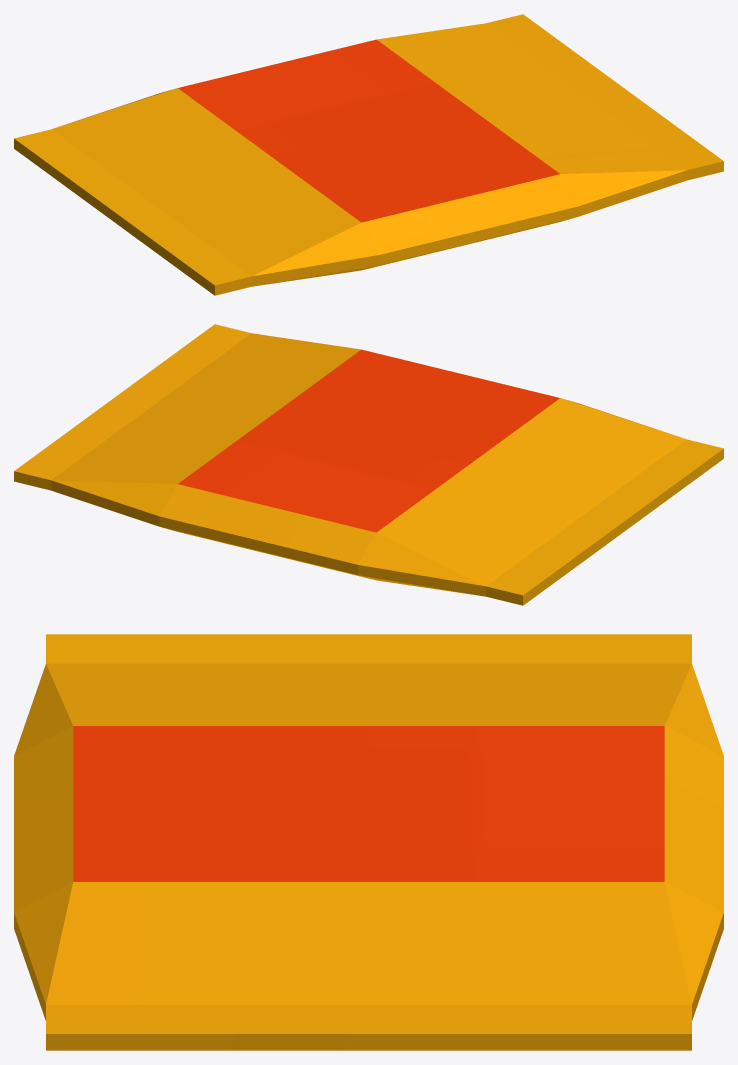
File: Cover01.fbx
3 renders of one model, top to bottom at view 1: azimuth 30°, elevation 25°; view 2: azimuth 150°, elevation 25°; view 3: azimuth 270°, elevation 25°, orthographic. The views are drawn at different scales.
Parts seen in each view (by area): view 1: Cover01; view 2: Cover01; view 3: Cover01.
Part boxes in pixels (left/top/right/bottom): Cover01: left=14, top=14, right=723, bottom=295; Cover01: left=14, top=324, right=723, bottom=605; Cover01: left=14, top=634, right=723, bottom=1050.
Size of the model in its own units: 703 by 63.06 by 528.
